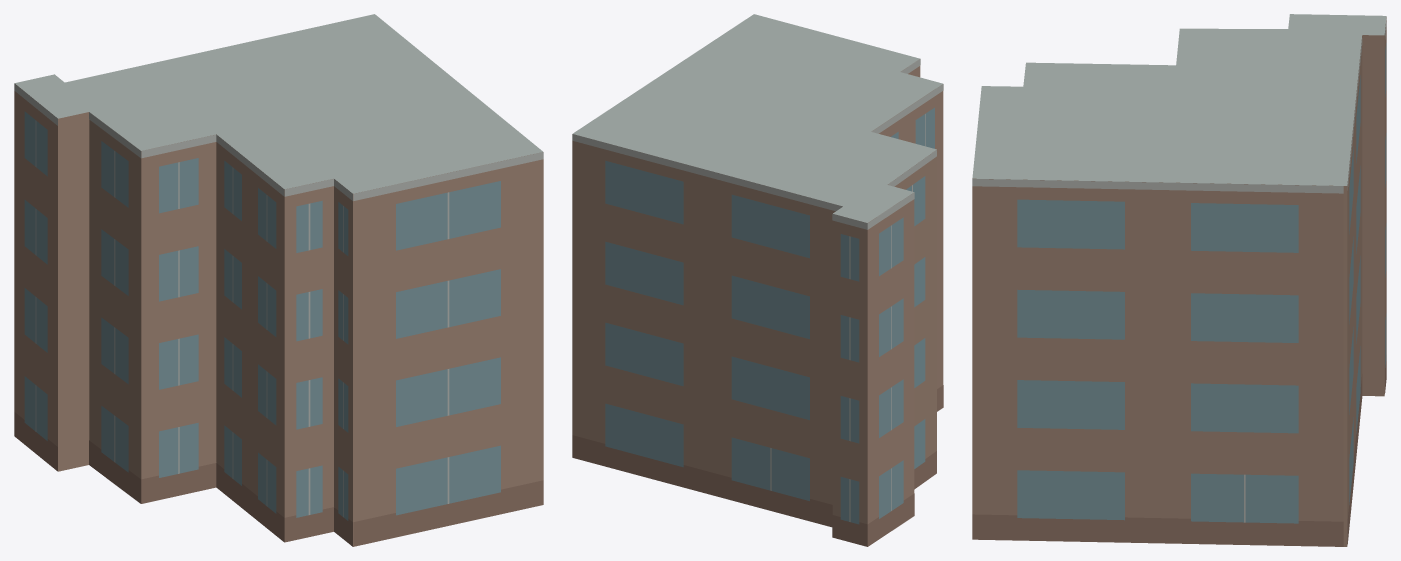
File: survey-upis-32910109.glb
3 renders of one model, left to right at view 1: azimuth 30°, elevation 25°; view 2: azimuth 150°, elevation 25°; view 3: azimuth 270°, elevation 25°, orthographic. The views are drawn at different scales.
Parts seen in each view (by area): view 1: survey-upis-32910109.tmp; view 2: survey-upis-32910109.tmp; view 3: survey-upis-32910109.tmp.
Boxes of the visible parts, <box> form: survey-upis-32910109.tmp: <box>14,14,543,546</box>; survey-upis-32910109.tmp: <box>572,14,943,546</box>; survey-upis-32910109.tmp: <box>972,14,1386,546</box>.
Size of the model in its own units: 11.86 by 11.6 by 12.08.
